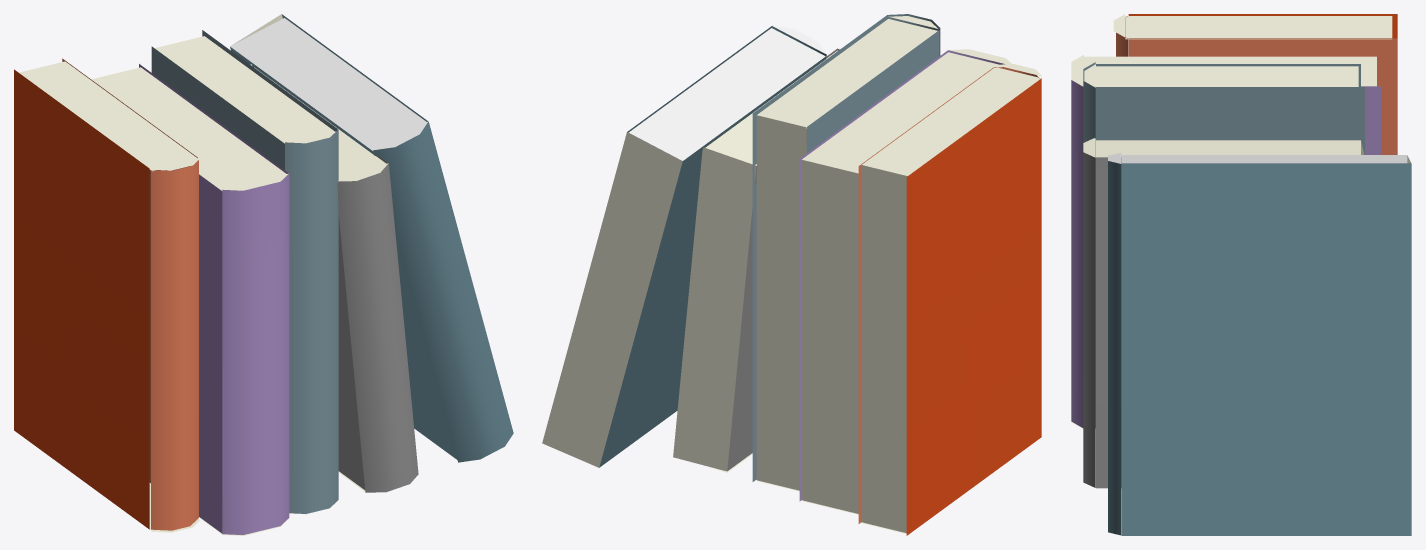
File: prop_079.glb
3 views of the same model, side by side, from view 1: azimuth 30°, elevation 25°; view 2: azimuth 150°, elevation 25°; view 3: azimuth 270°, elevation 25° (orthographic).
Parts seen in each view (by area): view 1: prop_079; view 2: prop_079; view 3: prop_079.
Part boxes in pixels (box(x1,y1,x2,y2)): prop_079: box(14, 14, 513, 535); prop_079: box(542, 14, 1042, 535); prop_079: box(1071, 14, 1411, 535).
Size of the model in its own units: 0.2154 by 0.2145 by 0.1775.
1 material, 1 textured.
